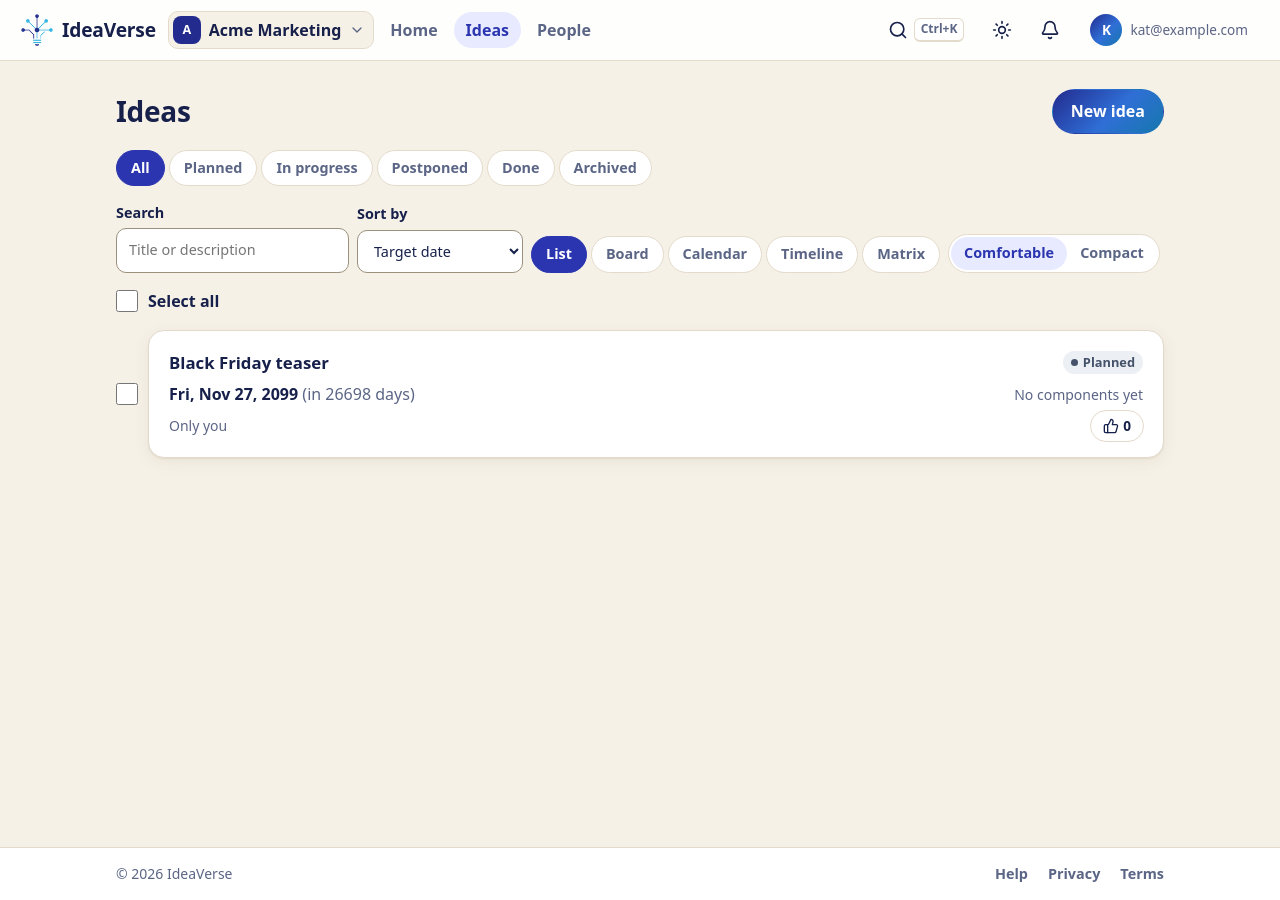
Test: IdeasPage › filters by status through the API
Expected: the link "Black Friday teaser" is shown, [169, 351, 329, 374]
Click the button "Done": {"x": 521, "y": 168} [487, 150, 554, 186]
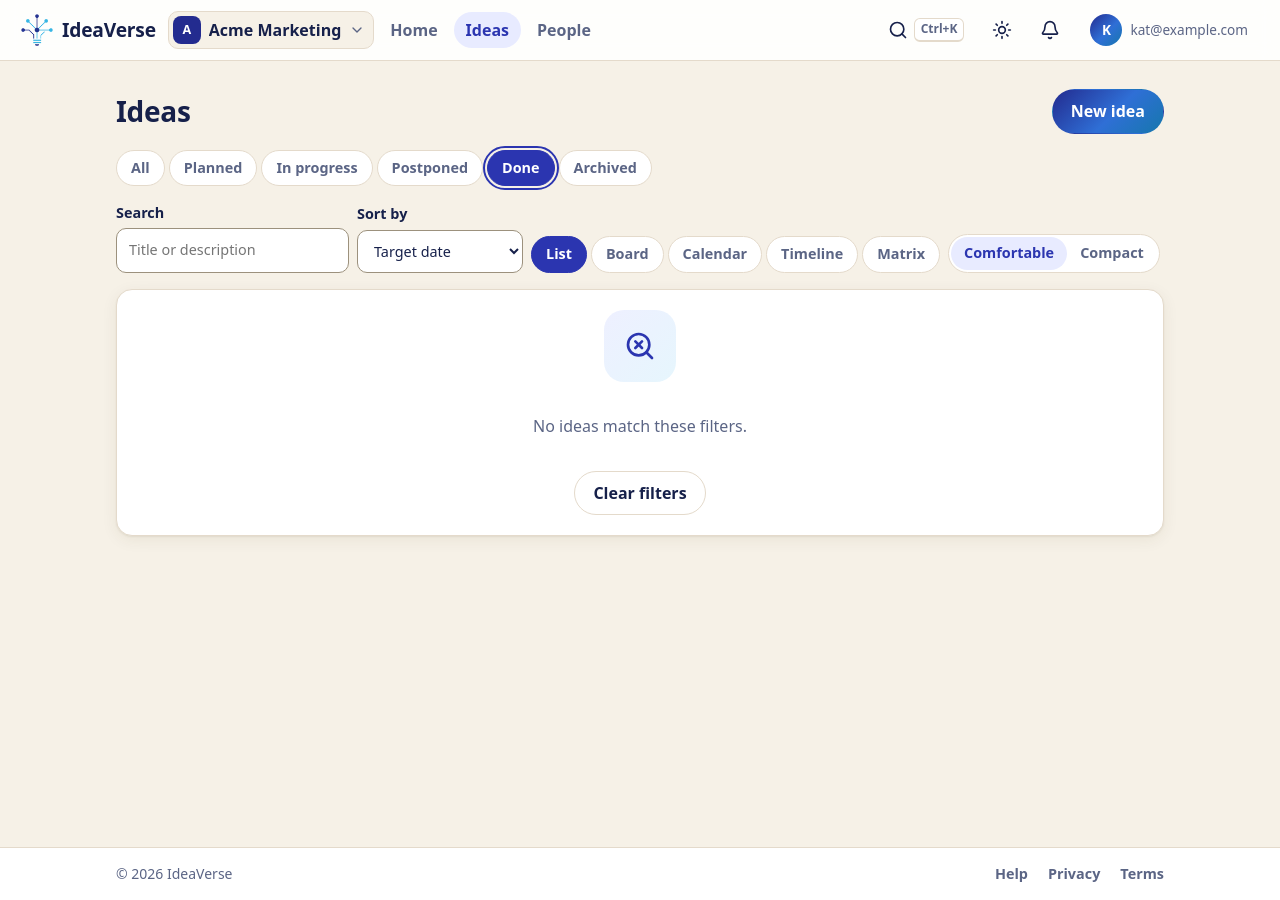
Expected: the text "No ideas match these filters." is shown, [533, 414, 747, 439]
Expected: the button "Clear filters" is shown, [574, 470, 706, 515]
